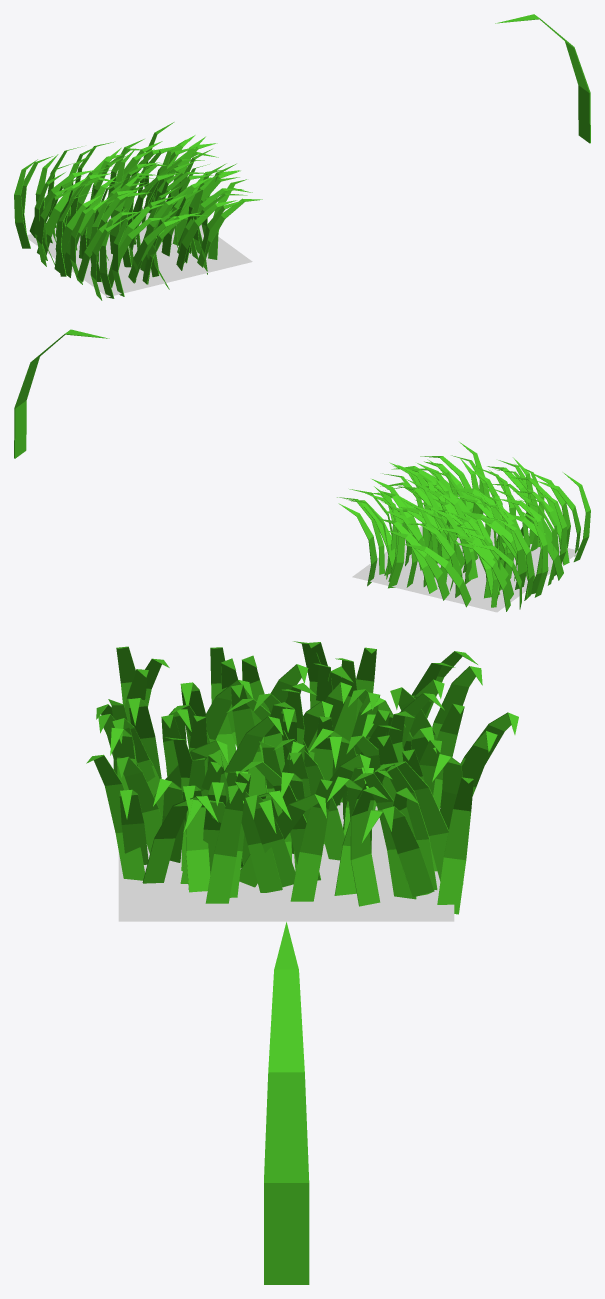
Rendered from TallGrass.fbx.
The picture shows the model from 3 angles, top to bottom: view 1: azimuth 30°, elevation 25°; view 2: azimuth 150°, elevation 25°; view 3: azimuth 270°, elevation 25°; orthographic projection. The views are drawn at different scales.
Visible parts, largest first — view 1: Plane, Cube, Plane|Cube|Dupli|51.0.0.0.0.0.0.0.0.0, Plane|Cube|Dupli|62.0.0.0.0.0.0.0.0.0, Plane|Cube|Dupli|8.0.0.0.0.0.0.0.0.0, Plane|Cube|Dupli|2.0.0.0.0.0.0.0.0.0, Plane|Cube|Dupli|13.0.0.0.0.0.0.0.0.0, Plane|Cube|Dupli|34.0.0.0.0.0.0.0.0.0, Plane|Cube|Dupli|17.0.0.0.0.0.0.0.0.0, Plane|Cube|Dupli|93.0.0.0.0.0.0.0.0.0, Plane|Cube|Dupli|77.0.0.0.0.0.0.0.0.0, Plane|Cube|Dupli|82.0.0.0.0.0.0.0.0.0 (+11 smaller); view 2: Plane, Cube, Plane|Cube|Dupli|33.0.0.0.0.0.0.0.0.0, Plane|Cube|Dupli|9.0.0.0.0.0.0.0.0.0, Plane|Cube|Dupli|14.0.0.0.0.0.0.0.0.0, Plane|Cube|Dupli|49.0.0.0.0.0.0.0.0.0, Plane|Cube|Dupli|74.0.0.0.0.0.0.0.0.0, Plane|Cube|Dupli|10.0.0.0.0.0.0.0.0.0, Plane|Cube|Dupli|35.0.0.0.0.0.0.0.0.0, Plane|Cube|Dupli|52.0.0.0.0.0.0.0.0.0, Plane|Cube|Dupli|6.0.0.0.0.0.0.0.0.0, Plane|Cube|Dupli|46.0.0.0.0.0.0.0.0.0 (+12 smaller); view 3: Cube, Plane, Plane|Cube|Dupli|74.0.0.0.0.0.0.0.0.0, Plane|Cube|Dupli|0.0.0.0.0.0.0.0.0.0, Plane|Cube|Dupli|21.0.0.0.0.0.0.0.0.0, Plane|Cube|Dupli|16.0.0.0.0.0.0.0.0.0, Plane|Cube|Dupli|61.0.0.0.0.0.0.0.0.0, Plane|Cube|Dupli|15.0.0.0.0.0.0.0.0.0, Plane|Cube|Dupli|1.0.0.0.0.0.0.0.0.0, Plane|Cube|Dupli|60.0.0.0.0.0.0.0.0.0, Plane|Cube|Dupli|35.0.0.0.0.0.0.0.0.0, Plane|Cube|Dupli|7.0.0.0.0.0.0.0.0.0 (+22 smaller).
Part boxes in pixels (x1,y1,x2,y2): Plane: [27, 206, 252, 297]; Cube: [495, 14, 590, 143]; Plane|Cube|Dupli|51.0.0.0.0.0.0.0.0.0: [14, 159, 37, 248]; Plane|Cube|Dupli|62.0.0.0.0.0.0.0.0.0: [176, 200, 237, 270]; Plane|Cube|Dupli|8.0.0.0.0.0.0.0.0.0: [37, 177, 87, 255]; Plane|Cube|Dupli|2.0.0.0.0.0.0.0.0.0: [99, 208, 126, 298]; Plane|Cube|Dupli|13.0.0.0.0.0.0.0.0.0: [77, 212, 140, 281]; Plane|Cube|Dupli|34.0.0.0.0.0.0.0.0.0: [112, 208, 145, 296]; Plane|Cube|Dupli|17.0.0.0.0.0.0.0.0.0: [54, 195, 101, 272]; Plane|Cube|Dupli|93.0.0.0.0.0.0.0.0.0: [197, 198, 262, 267]; Plane|Cube|Dupli|77.0.0.0.0.0.0.0.0.0: [108, 217, 170, 287]; Plane|Cube|Dupli|82.0.0.0.0.0.0.0.0.0: [55, 192, 91, 276]; Plane: [352, 526, 577, 612]; Cube: [14, 329, 109, 458]; Plane|Cube|Dupli|33.0.0.0.0.0.0.0.0.0: [404, 544, 471, 607]; Plane|Cube|Dupli|9.0.0.0.0.0.0.0.0.0: [387, 530, 449, 600]; Plane|Cube|Dupli|14.0.0.0.0.0.0.0.0.0: [379, 519, 437, 593]; Plane|Cube|Dupli|49.0.0.0.0.0.0.0.0.0: [452, 542, 510, 611]; Plane|Cube|Dupli|74.0.0.0.0.0.0.0.0.0: [338, 503, 377, 586]; Plane|Cube|Dupli|10.0.0.0.0.0.0.0.0.0: [496, 518, 534, 600]; Plane|Cube|Dupli|35.0.0.0.0.0.0.0.0.0: [380, 498, 404, 588]; Plane|Cube|Dupli|52.0.0.0.0.0.0.0.0.0: [517, 509, 548, 597]; Plane|Cube|Dupli|6.0.0.0.0.0.0.0.0.0: [349, 500, 395, 568]; Plane|Cube|Dupli|46.0.0.0.0.0.0.0.0.0: [563, 472, 590, 561]; Cube: [264, 922, 309, 1284]; Plane: [118, 802, 454, 921]; Plane|Cube|Dupli|74.0.0.0.0.0.0.0.0.0: [437, 777, 473, 914]; Plane|Cube|Dupli|0.0.0.0.0.0.0.0.0.0: [205, 781, 246, 903]; Plane|Cube|Dupli|21.0.0.0.0.0.0.0.0.0: [290, 779, 332, 901]; Plane|Cube|Dupli|16.0.0.0.0.0.0.0.0.0: [350, 786, 387, 906]; Plane|Cube|Dupli|61.0.0.0.0.0.0.0.0.0: [186, 757, 210, 892]; Plane|Cube|Dupli|15.0.0.0.0.0.0.0.0.0: [382, 806, 434, 897]; Plane|Cube|Dupli|1.0.0.0.0.0.0.0.0.0: [86, 754, 144, 880]; Plane|Cube|Dupli|60.0.0.0.0.0.0.0.0.0: [142, 796, 218, 883]; Plane|Cube|Dupli|35.0.0.0.0.0.0.0.0.0: [385, 761, 463, 884]; Plane|Cube|Dupli|7.0.0.0.0.0.0.0.0.0: [228, 785, 282, 892].
Size of the model in its own units: 5447 by 1417 by 1907.
